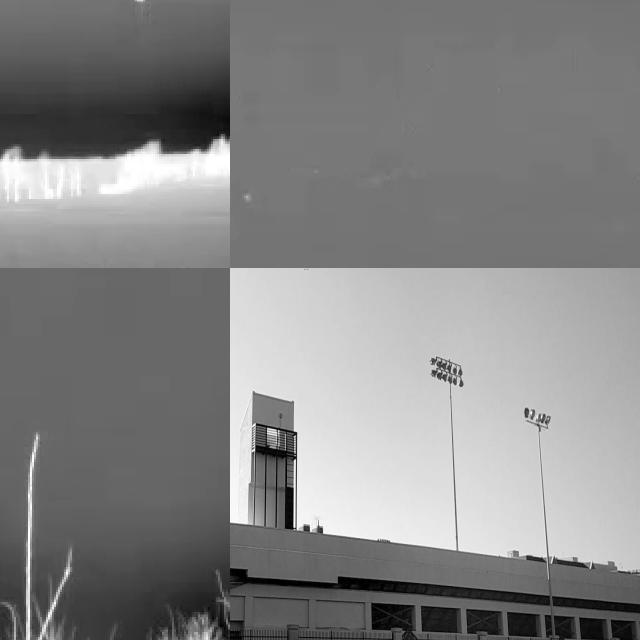0: (235, 188, 257, 210)
1: (122, 0, 158, 24)
drone: (292, 268, 315, 274)
